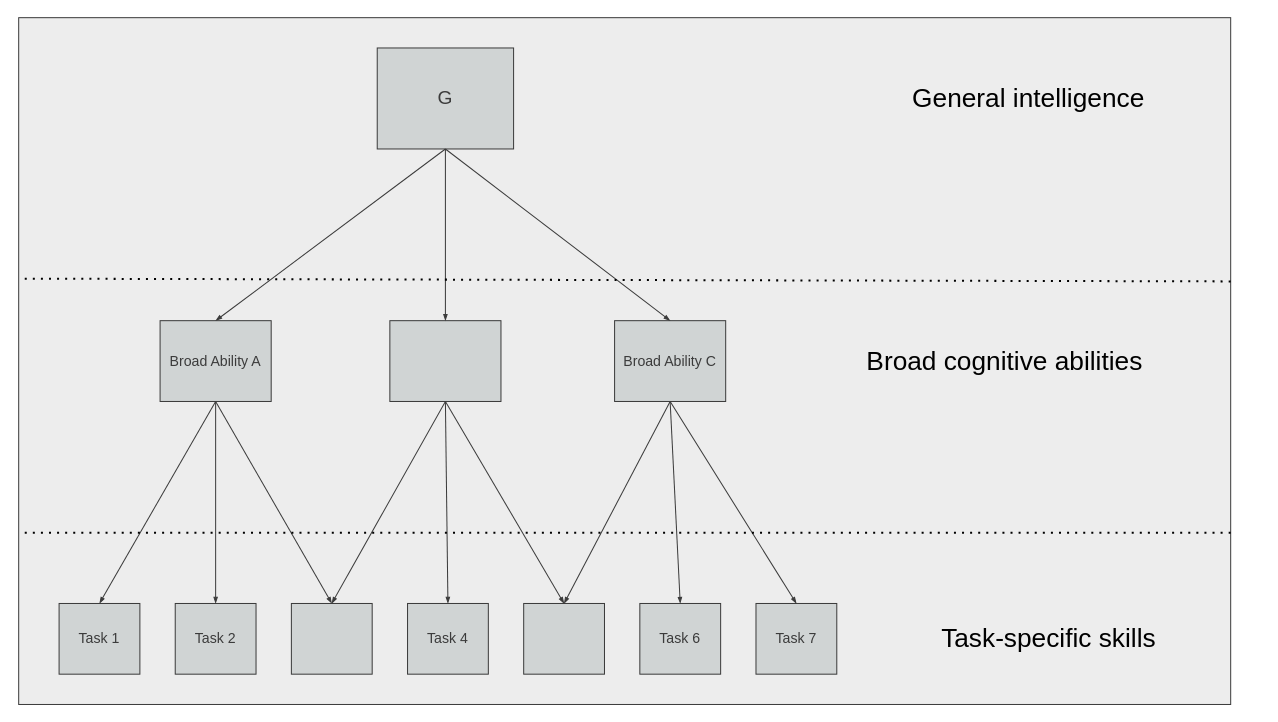
The diagram is 1278 pixels wide and 722 high, and some of its shapes have lost their labels. Here are the shapes that lost their labels. From the top down, the centre of each, then its label:
At pixel 445 360: "Broad Ability B".
At pixel 331 638: "Task 3".
At pixel 563 638: "Task 5".
